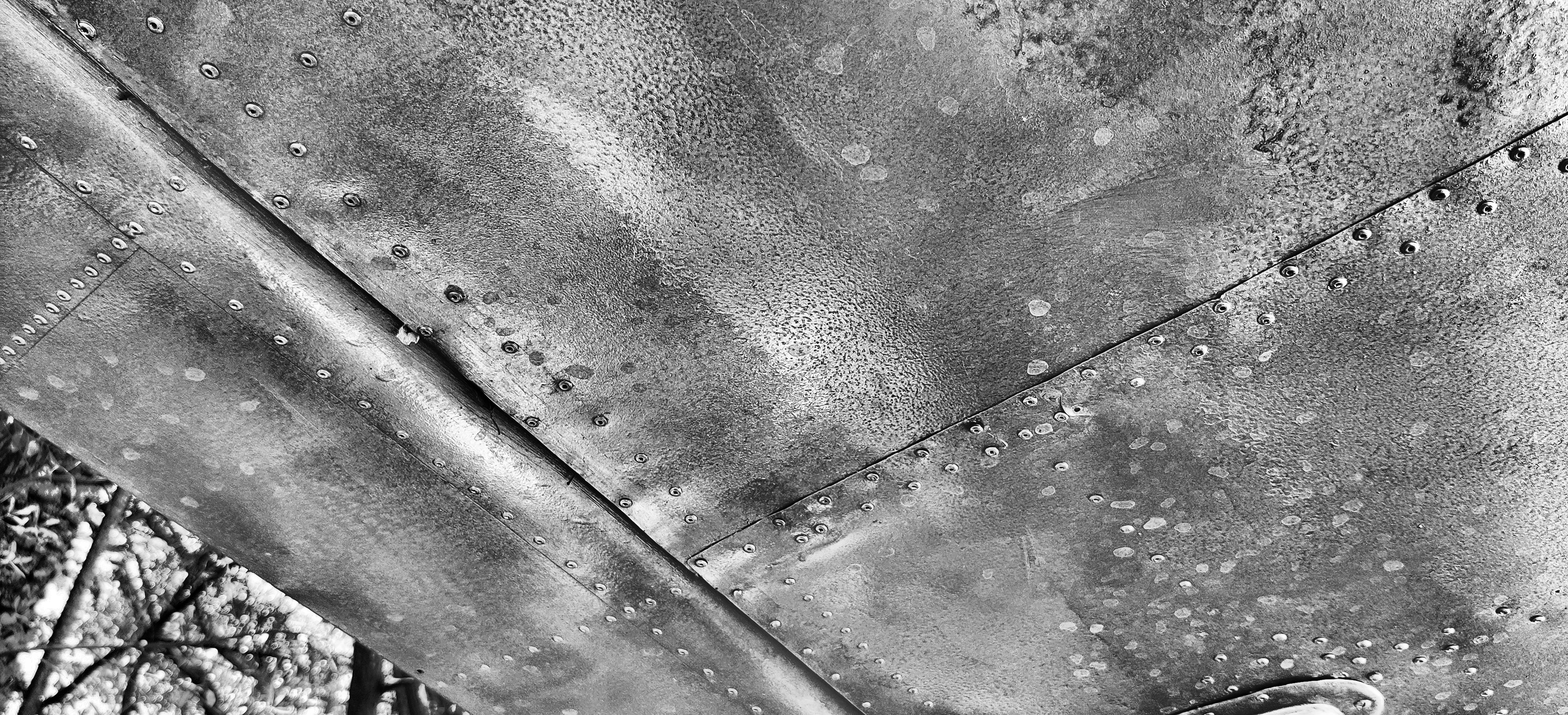crack: (1059, 396, 1072, 416)
dent: (813, 532, 847, 556)
missing-head: (1074, 406, 1082, 413), (416, 668, 424, 675)
